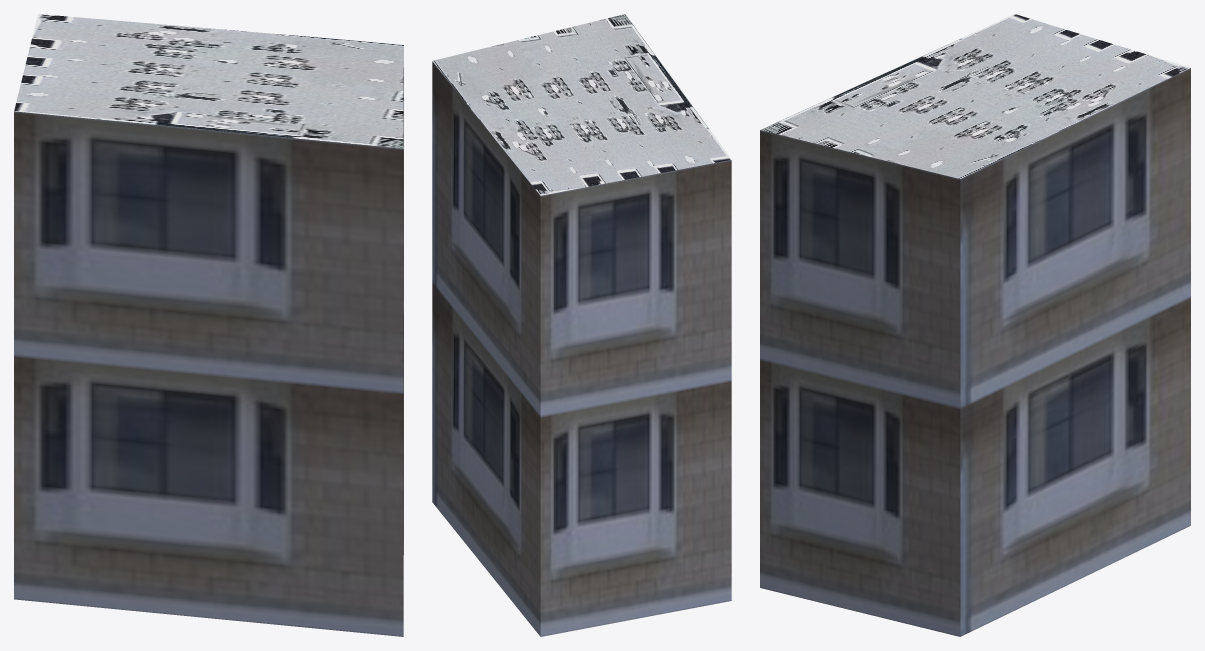
Rendered from ResTex__210.fbx.
3 views of the same model, side by side, from view 1: azimuth 30°, elevation 25°; view 2: azimuth 150°, elevation 25°; view 3: azimuth 270°, elevation 25° (orthographic). The views are drawn at different scales.
Visible parts, largest first — view 1: CityEngineMaterial_3_m, CityEngineMaterial_8_m; view 2: CityEngineMaterial_3_m, CityEngineMaterial_8_m; view 3: CityEngineMaterial_3_m, CityEngineMaterial_8_m.
Boxes of the visible parts, bbox=[...] form: CityEngineMaterial_3_m: bbox=[14, 67, 403, 636]; CityEngineMaterial_8_m: bbox=[14, 14, 403, 148]; CityEngineMaterial_3_m: bbox=[432, 61, 731, 636]; CityEngineMaterial_8_m: bbox=[432, 14, 731, 195]; CityEngineMaterial_3_m: bbox=[760, 68, 1190, 636]; CityEngineMaterial_8_m: bbox=[760, 14, 1190, 178].
Size of the model in its own units: 4.64 by 6 by 5.12.
2 materials, 2 textured.
